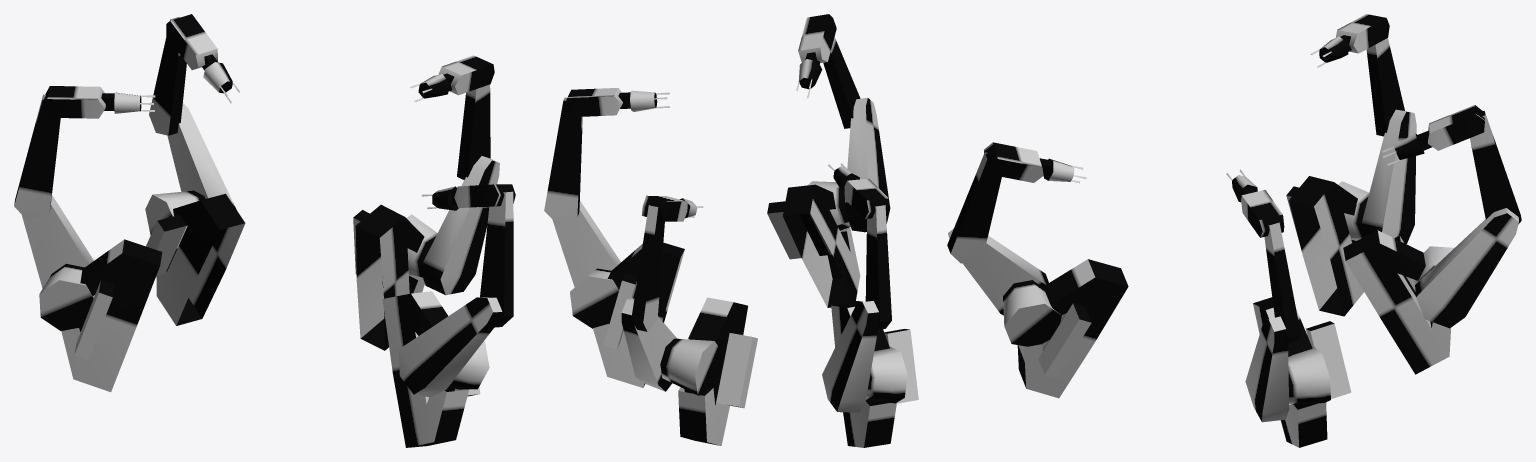
Rendered from module_construction.obj.
The picture shows the model from 3 angles, left to right: view 1: azimuth 30°, elevation 25°; view 2: azimuth 150°, elevation 25°; view 3: azimuth 270°, elevation 25°; orthographic projection. The views are drawn at different scales.
Parts seen in each view (by area): view 1: cbs_building_process006; view 2: cbs_building_process006; view 3: cbs_building_process006.
Boxes of the visible parts, box(x1,y1,x2,y2) form: cbs_building_process006: box(14, 14, 515, 447); cbs_building_process006: box(544, 14, 918, 447); cbs_building_process006: box(947, 14, 1521, 447).
Size of the model in its own units: 175 by 117 by 211.
Materials: 1 (1 with a texture image).
